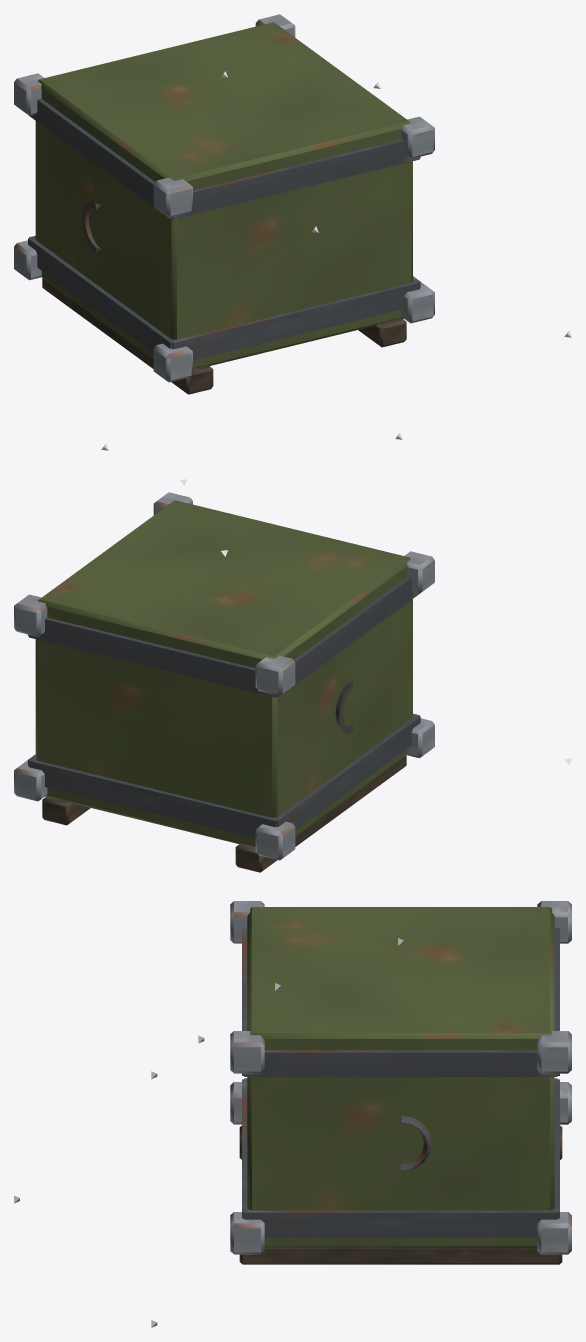
Rendered from SM_CarePackage_Crate.fbx.
3 renders of one model, top to bottom at view 1: azimuth 30°, elevation 25°; view 2: azimuth 150°, elevation 25°; view 3: azimuth 270°, elevation 25°, orthographic. The views are drawn at different scales.
Parts seen in each view (by area): view 1: SM_CarePackage_Crate; view 2: SM_CarePackage_Crate; view 3: SM_CarePackage_Crate.
Boxes of the visible parts, bbox=[...] form: SM_CarePackage_Crate: bbox=[14, 14, 434, 394]; SM_CarePackage_Crate: bbox=[14, 492, 434, 872]; SM_CarePackage_Crate: bbox=[230, 901, 571, 1264].
Size of the model in its own units: 7.74 by 3.95 by 7.26.
1 material, 1 textured.
